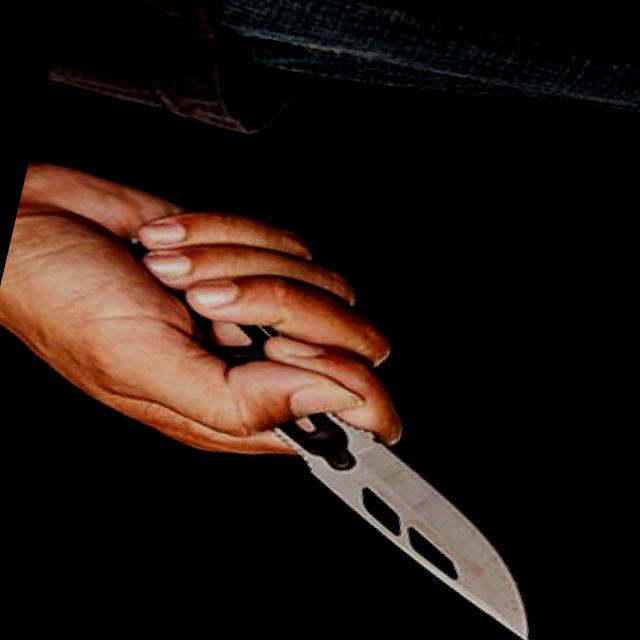knife: (45, 212, 610, 639)
